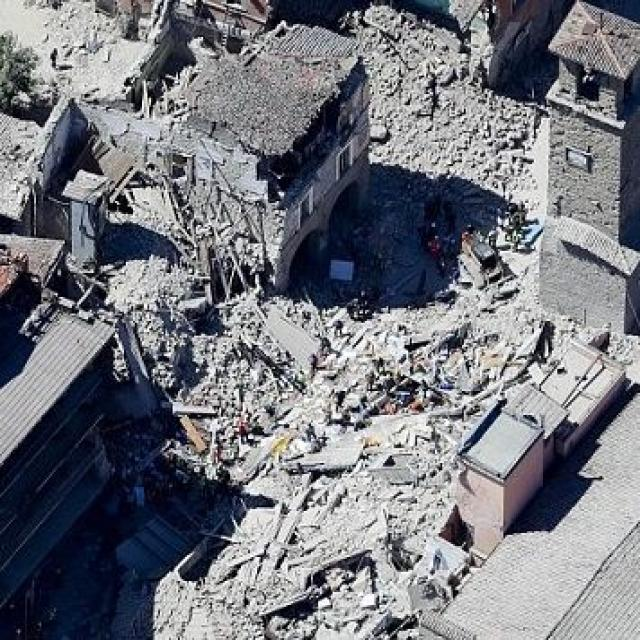collapsed_building: (160, 275, 464, 594), (46, 44, 360, 275)
